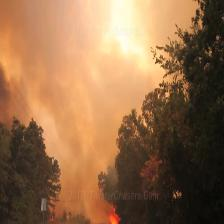fire: (46, 208, 77, 224), (104, 206, 127, 224)
smoke: (3, 1, 196, 187)
